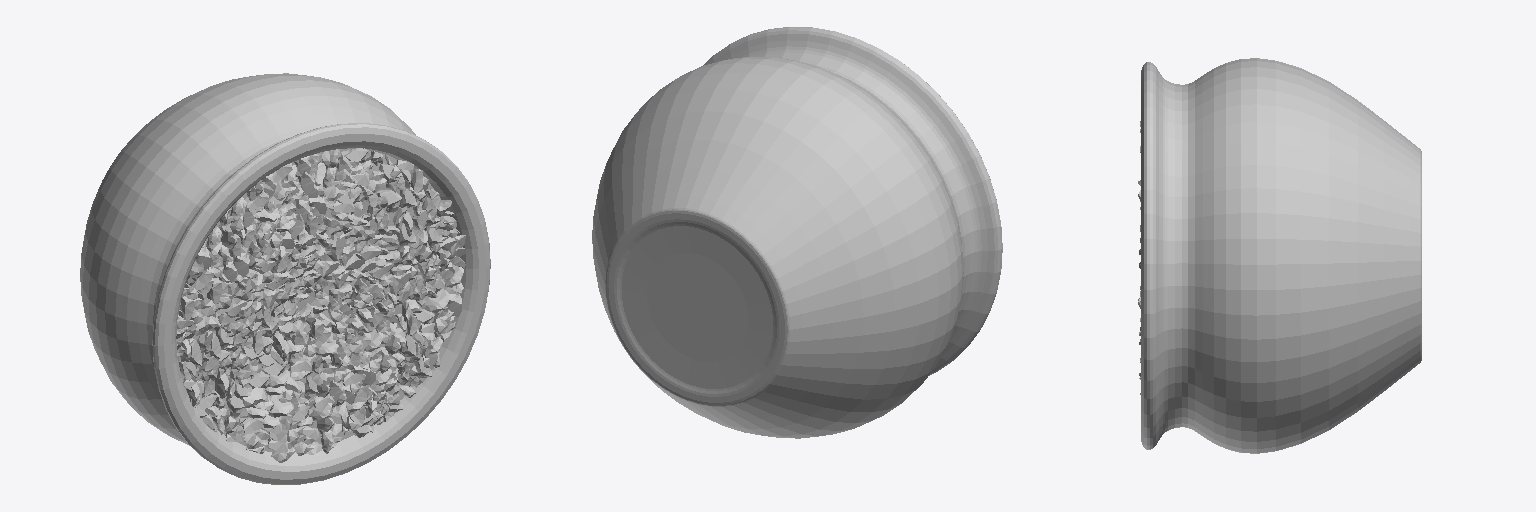
Rendered from plant_pot.obj.
The picture shows the model from 3 angles: view 1: azimuth 30°, elevation 25°; view 2: azimuth 150°, elevation 25°; view 3: azimuth 270°, elevation 25°; orthographic projection.
Visible parts, largest first — view 1: potted_plant_02_dirt; view 2: potted_plant_02_dirt; view 3: potted_plant_02_dirt.
Part boxes in pixels (x1,y1,x2,y2): potted_plant_02_dirt: (80, 73, 490, 484); potted_plant_02_dirt: (592, 27, 1002, 438); potted_plant_02_dirt: (1138, 58, 1421, 453).
Size of the model in its own units: 0.4741 by 0.4741 by 0.3407.